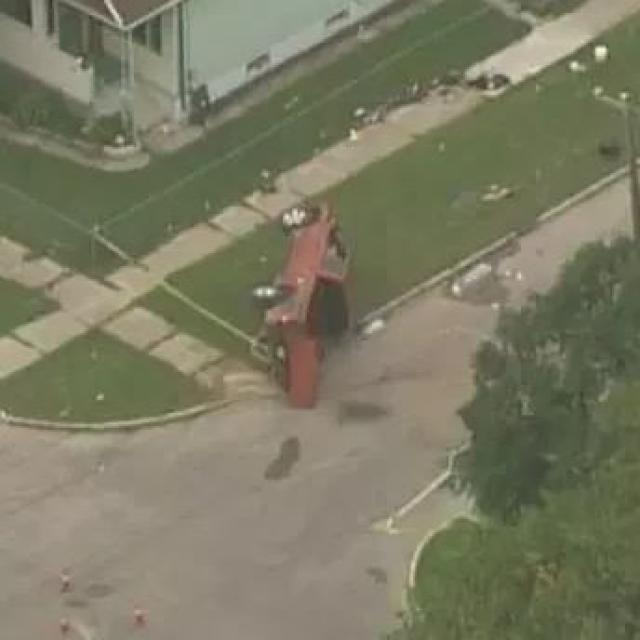traffic_incident: (238, 199, 359, 394)
